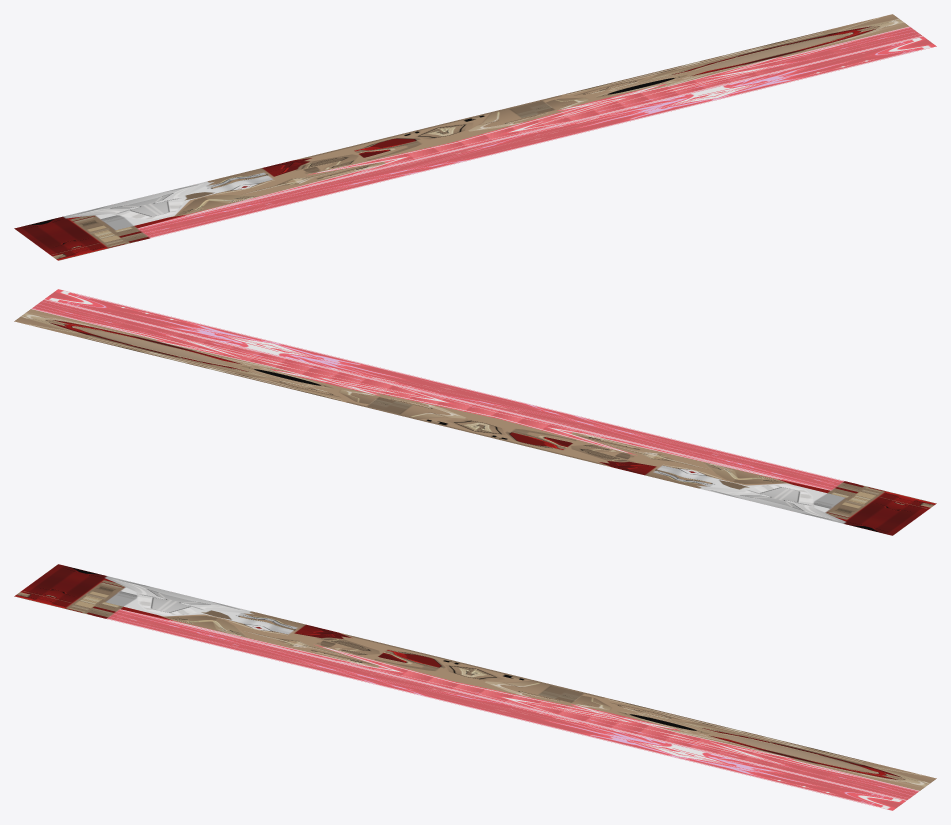
Rendered from Weapon.glb.
The picture shows the model from 3 angles, top to bottom: view 1: azimuth 30°, elevation 25°; view 2: azimuth 150°, elevation 25°; view 3: azimuth 330°, elevation 25°; orthographic projection.
Visible parts, largest first — view 1: himekonova_00_skill_weapon_LOD0; view 2: himekonova_00_skill_weapon_LOD0; view 3: himekonova_00_skill_weapon_LOD0.
Part boxes in pixels (x1,y1,x2,y2): himekonova_00_skill_weapon_LOD0: [14, 14, 936, 260]; himekonova_00_skill_weapon_LOD0: [14, 289, 936, 535]; himekonova_00_skill_weapon_LOD0: [14, 564, 936, 810].
Size of the model in its own units: 3.78 by 2e-06 by 0.3295.
1 material, 1 textured.
